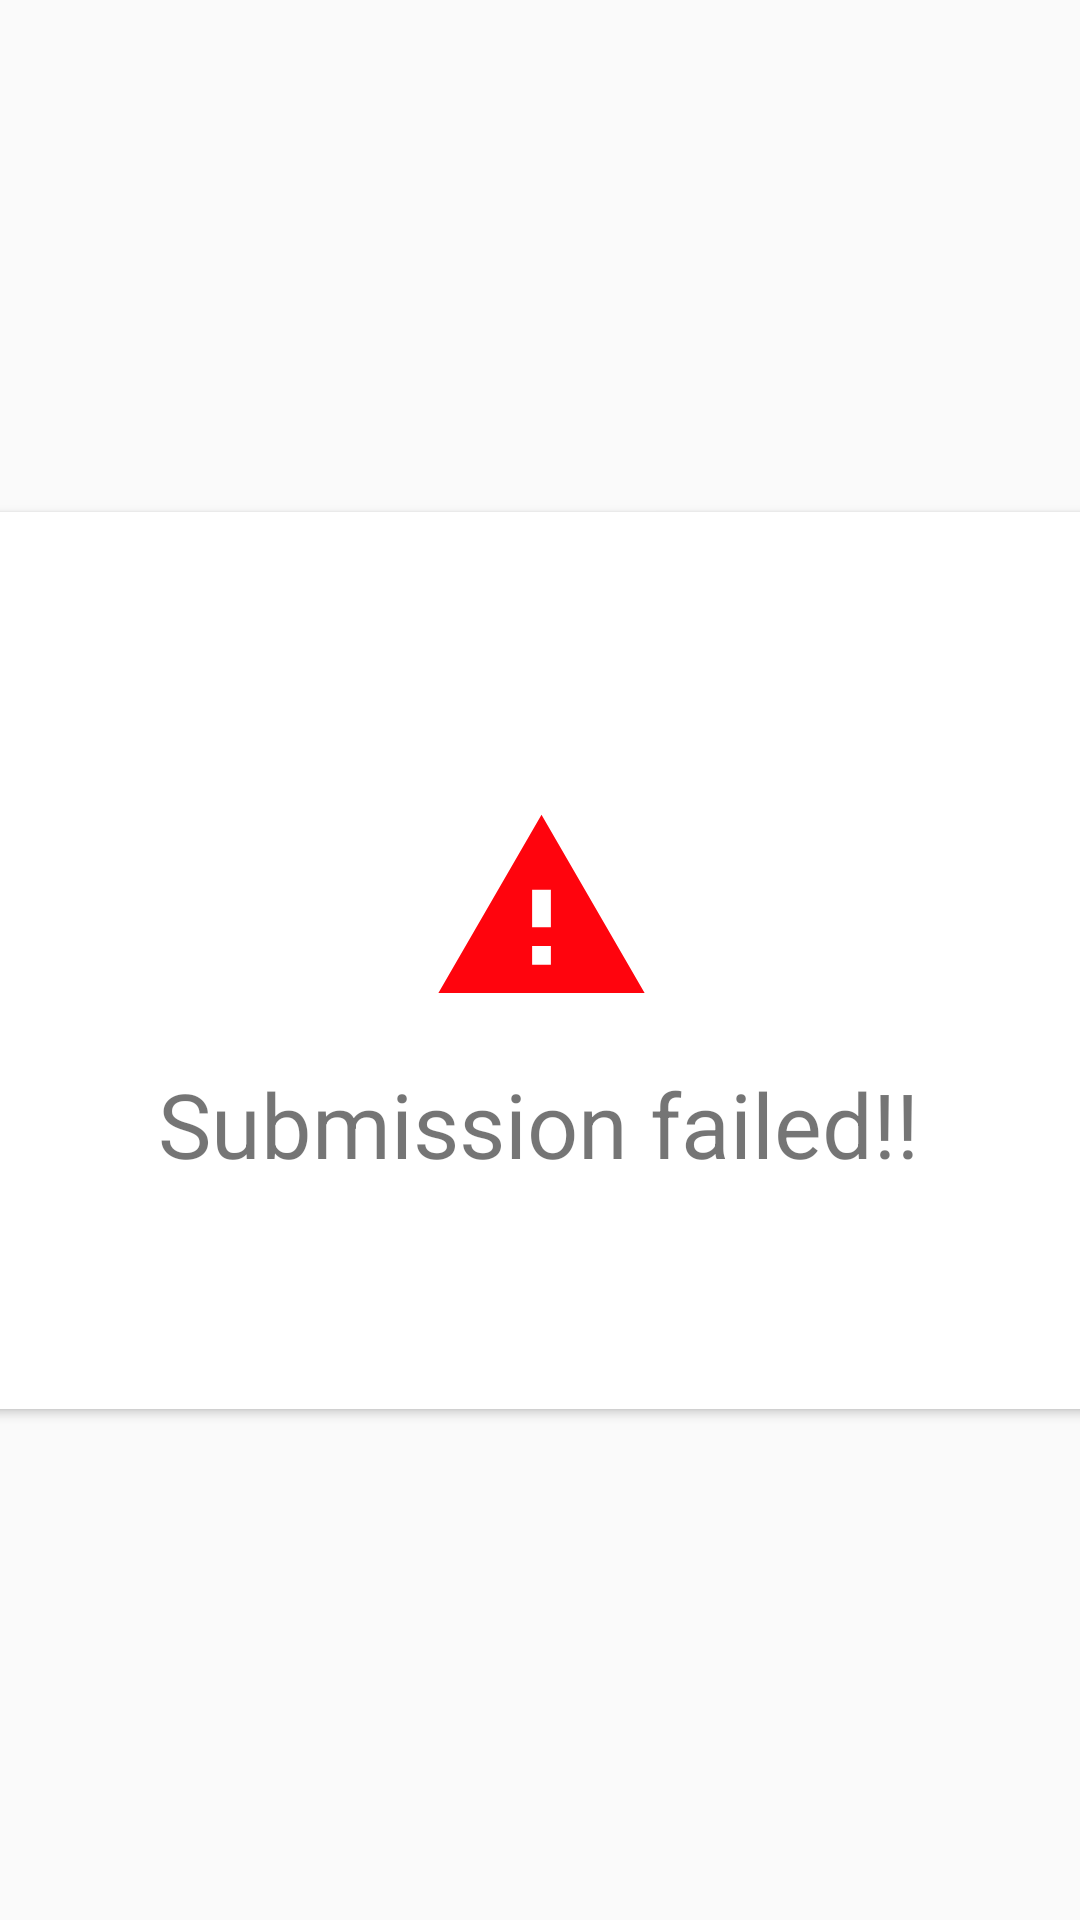

Named icons in this screenshot (1080px x 1920px) and their bounding boxes, box(x1, y1, x2, y2):
warning: box(438, 815, 645, 993)
